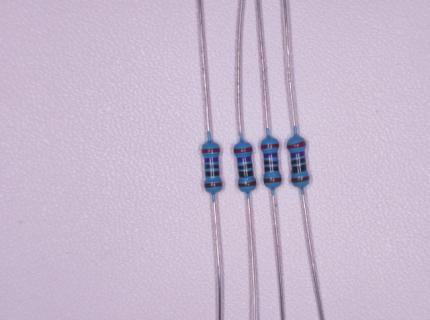Black band: (292, 164, 307, 173), (291, 157, 306, 165), (238, 163, 253, 170), (239, 170, 254, 177), (265, 167, 279, 173), (206, 171, 220, 177), (264, 160, 278, 165), (205, 165, 219, 169)
Brown band: (291, 176, 309, 183), (238, 181, 257, 187), (263, 178, 281, 184), (204, 183, 222, 188)
Red band: (287, 141, 306, 149), (233, 146, 252, 153), (260, 143, 279, 149), (201, 148, 220, 153)
Violet band: (237, 156, 252, 163), (290, 151, 305, 158), (204, 157, 218, 162), (264, 153, 277, 158)
